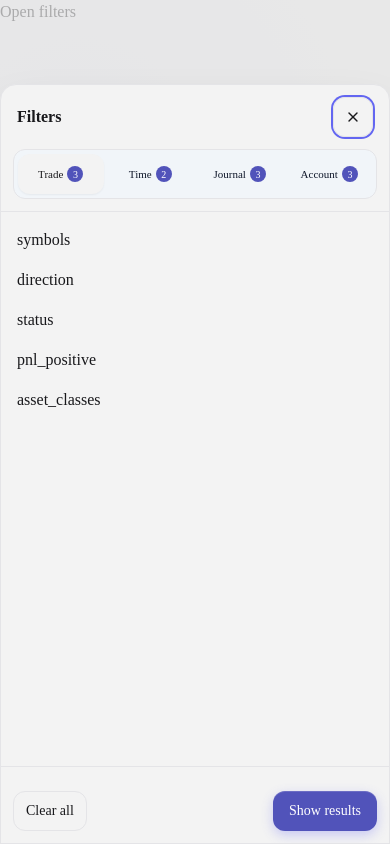
Test: TradeFilterSheet › dismisses using Close filters without changing filters
The width and height of the screenshot is (390, 844).
What coordinates should you click on to do the following:
click the button named "Close filters"
I would click on:
 (353, 117)
Its box is [333, 97, 373, 137].
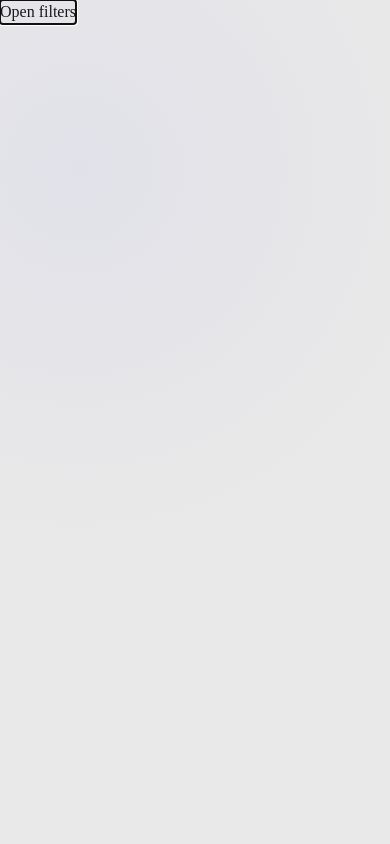
Expected: the dialog is gone
